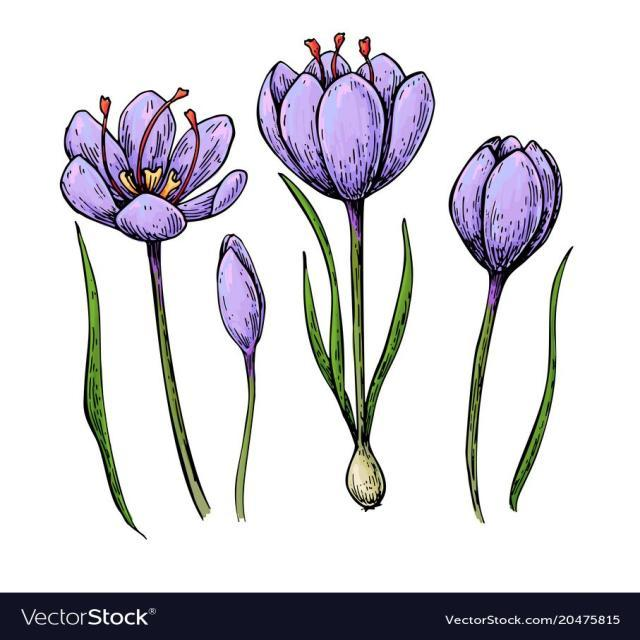Flower: (248, 31, 444, 199), (62, 85, 255, 242), (446, 125, 564, 266), (198, 224, 289, 356)
stigma: (126, 92, 174, 207), (92, 89, 119, 197), (179, 105, 204, 208), (302, 34, 328, 82), (359, 33, 376, 80)
